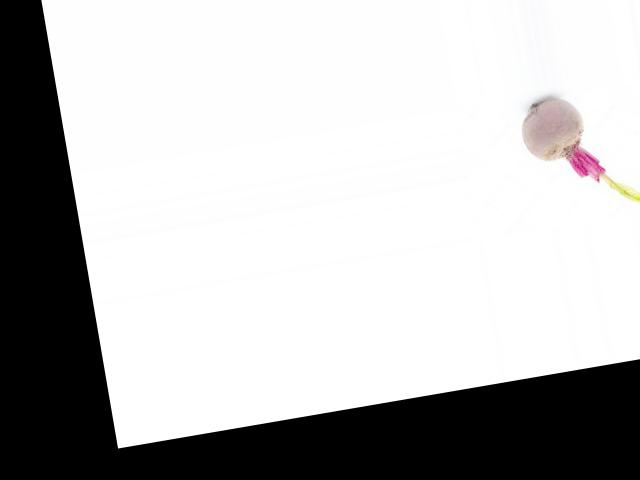beet: (516, 85, 640, 221)
